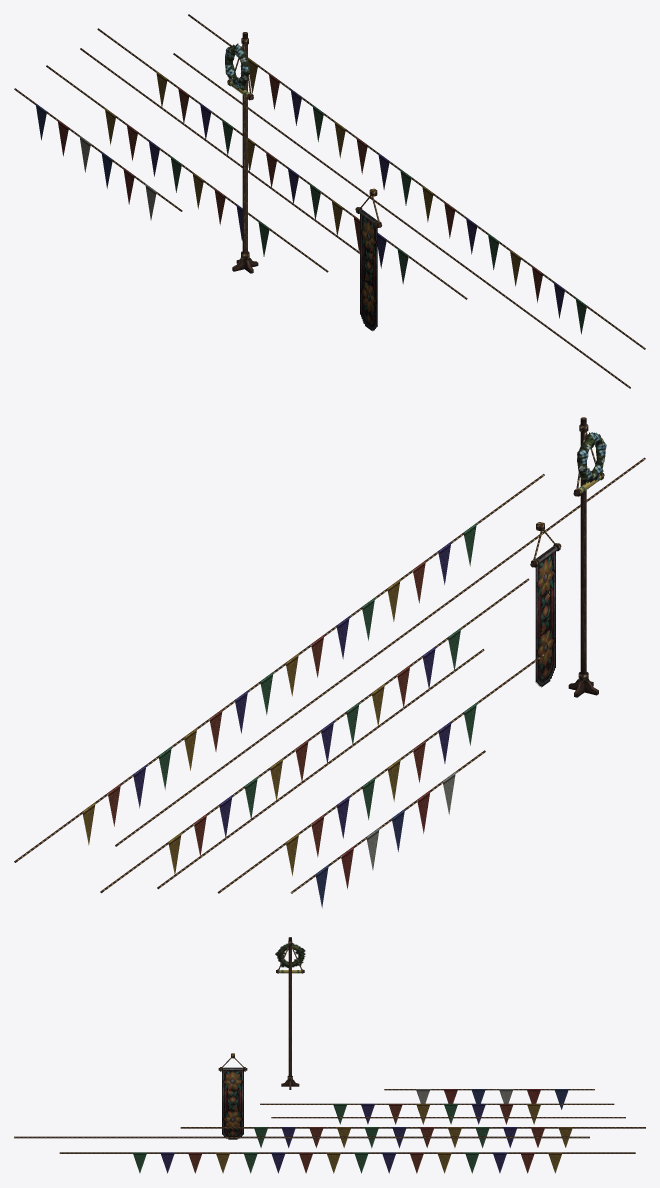
The model's file is EnvObjMD_Flag_A_Garland_A_L.FBX.
The picture shows the model from 3 angles, top to bottom: view 1: azimuth 30°, elevation 25°; view 2: azimuth 150°, elevation 25°; view 3: azimuth 270°, elevation 25°; orthographic projection. The views are drawn at different scales.
Visible parts, largest first — view 1: EnvObjMD_Flag_A_Garland_A_L, EnvObjMD_Flag_A_Garland_A_M, EnvObjMD_Flag_A_NoFlag, EnvObjMD_Flag_A_Garland_A_S, EnvObjMD_Flag_B, EnvObjMD_Flag_A_Garland_B_S, EnvObjMD_Flag_A_Garland_A_RopeOnly_L, EnvObjMD_Flag_A_Garland_A_RopeOnly_S; view 2: EnvObjMD_Flag_A_Garland_A_L, EnvObjMD_Flag_A_Garland_A_M, EnvObjMD_Flag_A_NoFlag, EnvObjMD_Flag_A_Garland_A_S, EnvObjMD_Flag_B, EnvObjMD_Flag_A_Garland_B_S, EnvObjMD_Flag_A_Garland_A_RopeOnly_L, EnvObjMD_Flag_A_Garland_A_RopeOnly_S; view 3: EnvObjMD_Flag_A_Garland_A_L, EnvObjMD_Flag_A_Garland_A_M, EnvObjMD_Flag_A_Garland_A_S, EnvObjMD_Flag_A_Garland_A_RopeOnly_L, EnvObjMD_Flag_B, EnvObjMD_Flag_A_NoFlag, EnvObjMD_Flag_A_Garland_B_S, EnvObjMD_Flag_A_Garland_A_RopeOnly_S.
Boxes of the visible parts, box(x1,y1,x2,y2) form: EnvObjMD_Flag_A_Garland_A_L: box(188, 14, 645, 349); EnvObjMD_Flag_A_Garland_A_M: box(97, 28, 467, 299); EnvObjMD_Flag_A_NoFlag: box(225, 32, 258, 273); EnvObjMD_Flag_A_Garland_A_S: box(46, 65, 328, 272); EnvObjMD_Flag_B: box(355, 188, 382, 331); EnvObjMD_Flag_A_Garland_B_S: box(14, 88, 182, 220); EnvObjMD_Flag_A_Garland_A_RopeOnly_L: box(173, 53, 630, 388); EnvObjMD_Flag_A_Garland_A_RopeOnly_S: box(80, 48, 359, 253); EnvObjMD_Flag_A_Garland_A_L: box(14, 474, 544, 862); EnvObjMD_Flag_A_Garland_A_M: box(100, 578, 529, 893); EnvObjMD_Flag_A_NoFlag: box(568, 417, 606, 697); EnvObjMD_Flag_A_Garland_A_S: box(217, 653, 544, 893); EnvObjMD_Flag_B: box(530, 522, 561, 687); EnvObjMD_Flag_A_Garland_B_S: box(290, 750, 485, 908); EnvObjMD_Flag_A_Garland_A_RopeOnly_L: box(115, 457, 645, 846); EnvObjMD_Flag_A_Garland_A_RopeOnly_S: box(157, 649, 484, 889); EnvObjMD_Flag_A_Garland_A_L: box(59, 1152, 635, 1173); EnvObjMD_Flag_A_Garland_A_M: box(180, 1127, 645, 1148); EnvObjMD_Flag_A_Garland_A_S: box(260, 1103, 614, 1124); EnvObjMD_Flag_A_Garland_A_RopeOnly_L: box(14, 1136, 589, 1138); EnvObjMD_Flag_B: box(218, 1053, 247, 1139); EnvObjMD_Flag_A_NoFlag: box(275, 937, 305, 1089); EnvObjMD_Flag_A_Garland_B_S: box(384, 1089, 594, 1109); EnvObjMD_Flag_A_Garland_A_RopeOnly_S: box(271, 1117, 625, 1118).
Size of the model in its own units: 759 by 886 by 2853.
2 materials, 2 textured.
